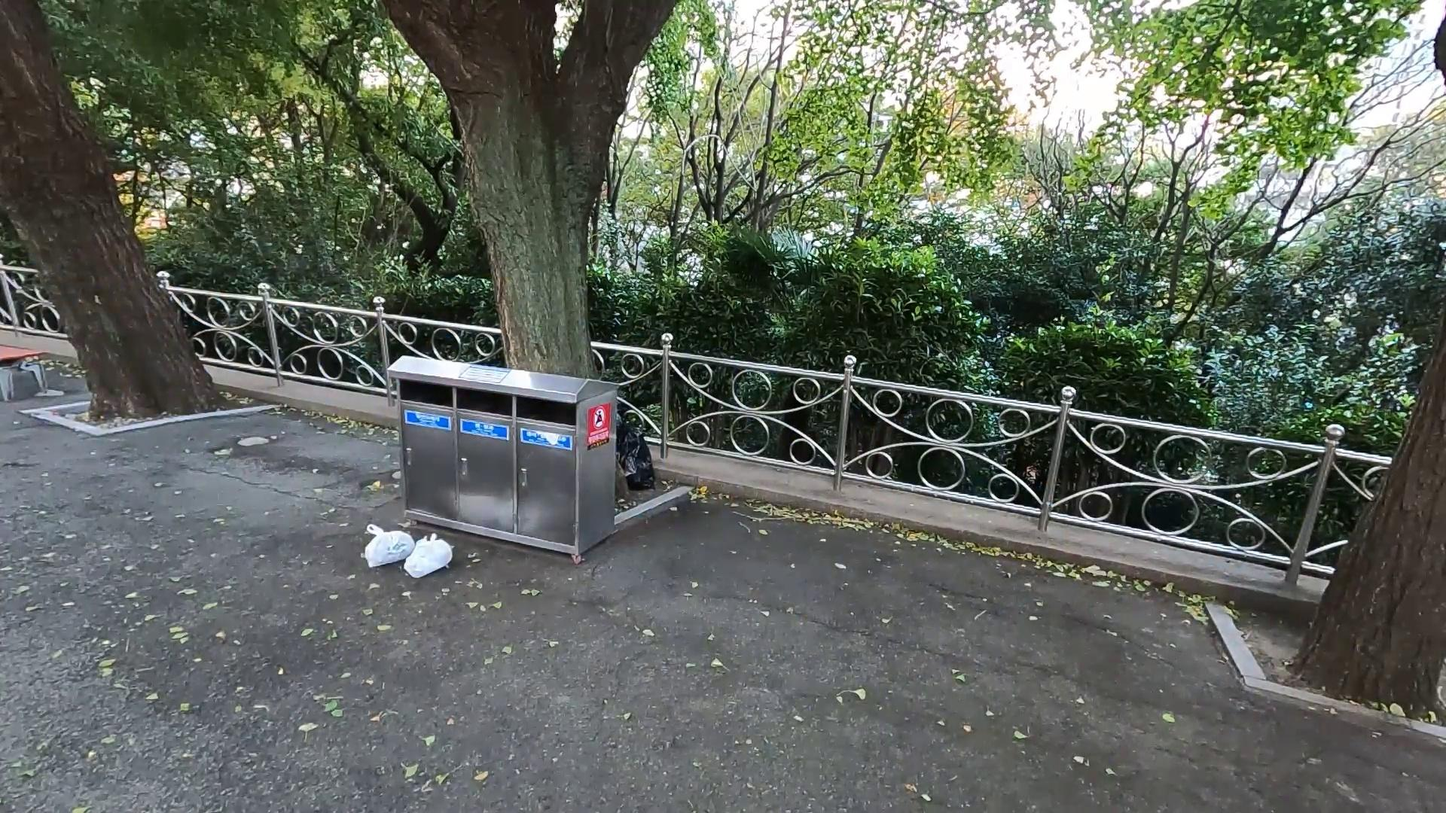trash: (617, 408, 658, 494), (361, 522, 418, 571), (405, 529, 455, 581)
